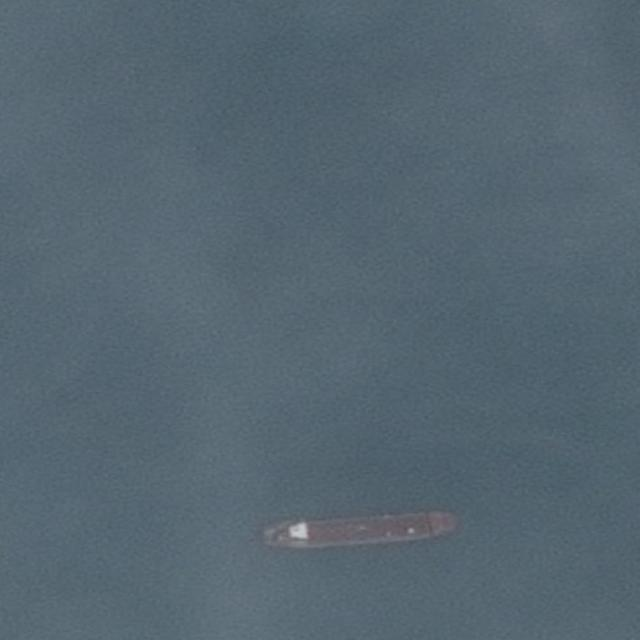Cargo: (254, 505, 463, 556)
